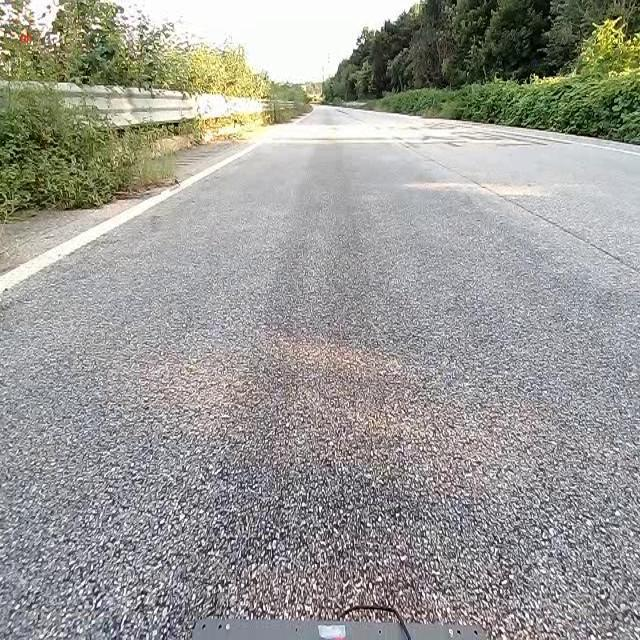Lane: (0, 133, 271, 294), (0, 140, 263, 295)
